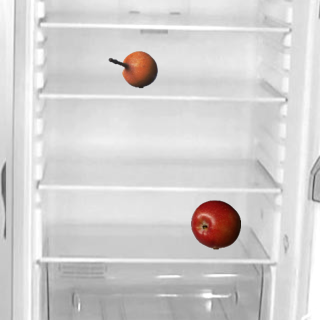Apple Braeburn: (190, 199, 240, 249)
Granadilla: (107, 44, 157, 94)
